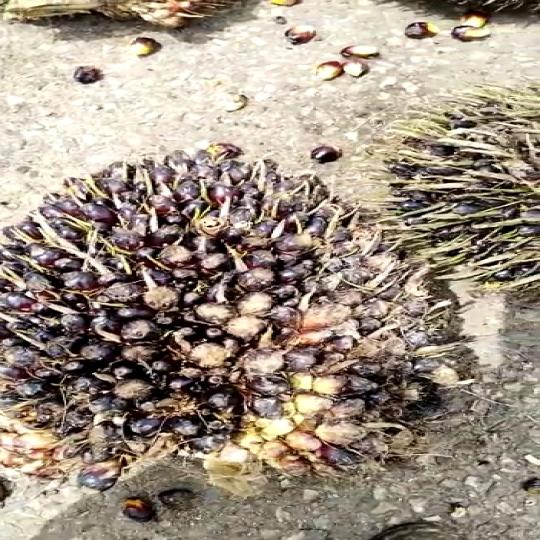mentah: (0, 144, 491, 490)
